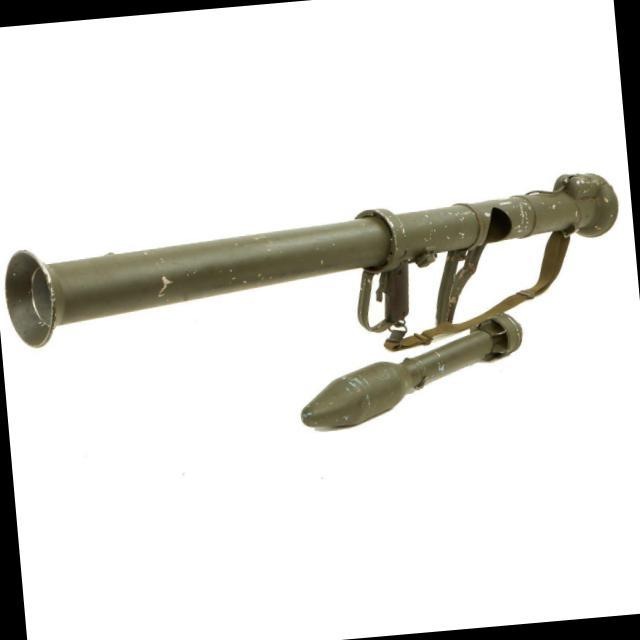rocket: (0, 171, 633, 442)
